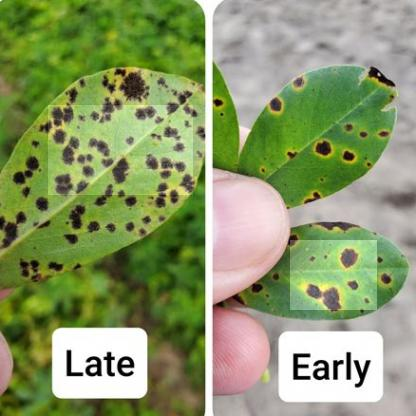black-spot: (48, 105, 193, 195), (290, 240, 377, 310), (282, 112, 373, 168)
